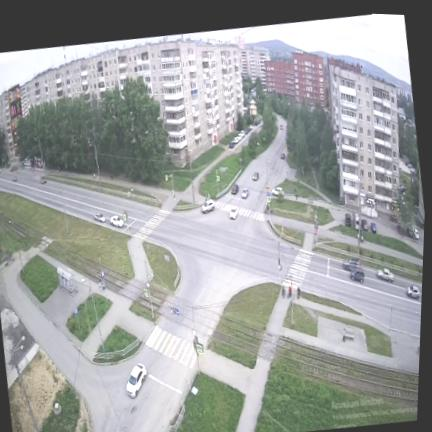bench: (345, 328, 354, 338)
busStop: (57, 267, 77, 294)
busStopSign: (75, 308, 81, 332), (101, 271, 106, 292)
car: (377, 268, 393, 281), (343, 258, 360, 270), (202, 199, 215, 213), (407, 285, 420, 299), (351, 269, 364, 282), (111, 216, 124, 227), (229, 206, 239, 219), (271, 187, 284, 197), (412, 227, 420, 240), (95, 214, 106, 222), (361, 219, 368, 231), (345, 213, 351, 226), (232, 184, 238, 194), (242, 188, 248, 198), (371, 223, 377, 233), (253, 172, 259, 180), (40, 177, 46, 183), (343, 328, 345, 341), (281, 154, 285, 159)
garbageBin: (417, 347, 419, 353)
human: (282, 287, 286, 297), (297, 287, 300, 298), (289, 286, 292, 296), (99, 282, 102, 291), (92, 173, 95, 178), (361, 236, 363, 242)
lightPole: (82, 278, 105, 351), (88, 141, 101, 186), (59, 185, 69, 232), (358, 181, 362, 255), (189, 158, 195, 201)
pedestianCross: (146, 326, 196, 368), (283, 249, 313, 290), (215, 201, 265, 221)
sign: (127, 364, 146, 398), (165, 255, 170, 268), (184, 379, 189, 384)
trafficLight: (144, 275, 154, 319), (123, 189, 132, 234), (193, 331, 203, 371), (166, 174, 176, 204), (216, 166, 226, 193), (278, 236, 282, 283), (314, 215, 318, 246), (267, 191, 271, 220)
truck: (352, 211, 359, 231)
